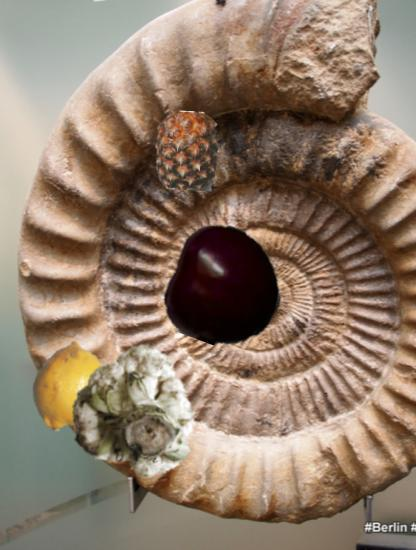Cauliflower: (70, 354, 201, 485)
Cherry: (167, 228, 285, 346)
Lemon: (23, 342, 115, 434)
Pineapple: (148, 111, 227, 190)
